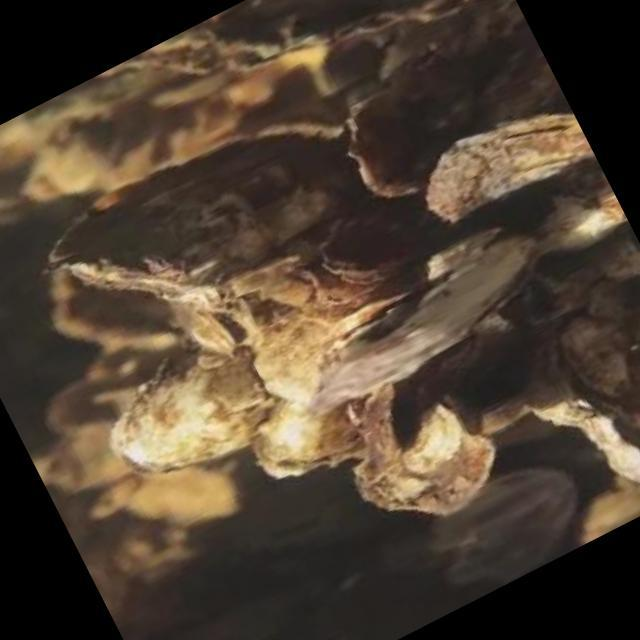Oyster- Indeterminate: (29, 102, 385, 360), (308, 207, 561, 431), (92, 322, 289, 519), (328, 366, 511, 541), (410, 100, 609, 240), (337, 69, 492, 206), (307, 174, 460, 304), (222, 271, 352, 409), (239, 378, 368, 491), (41, 270, 189, 357), (124, 456, 242, 530), (41, 365, 124, 447), (45, 419, 132, 491)
Oyster-Closed: (523, 174, 628, 265), (318, 280, 430, 354), (161, 287, 244, 366)
Oyster-Open: (252, 494, 343, 561)
